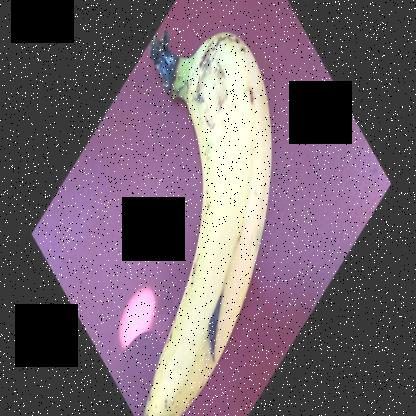ripe: (133, 22, 284, 415)
